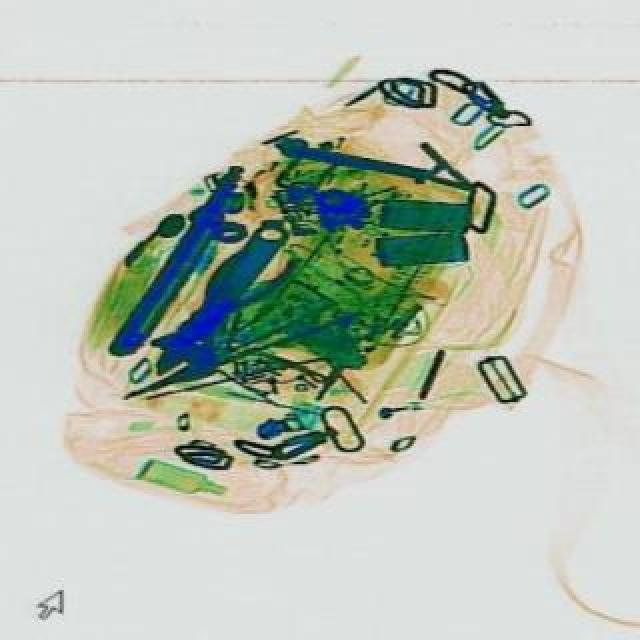scissors: (140, 206, 312, 394)
wrench: (138, 222, 310, 392), (120, 290, 368, 406)
